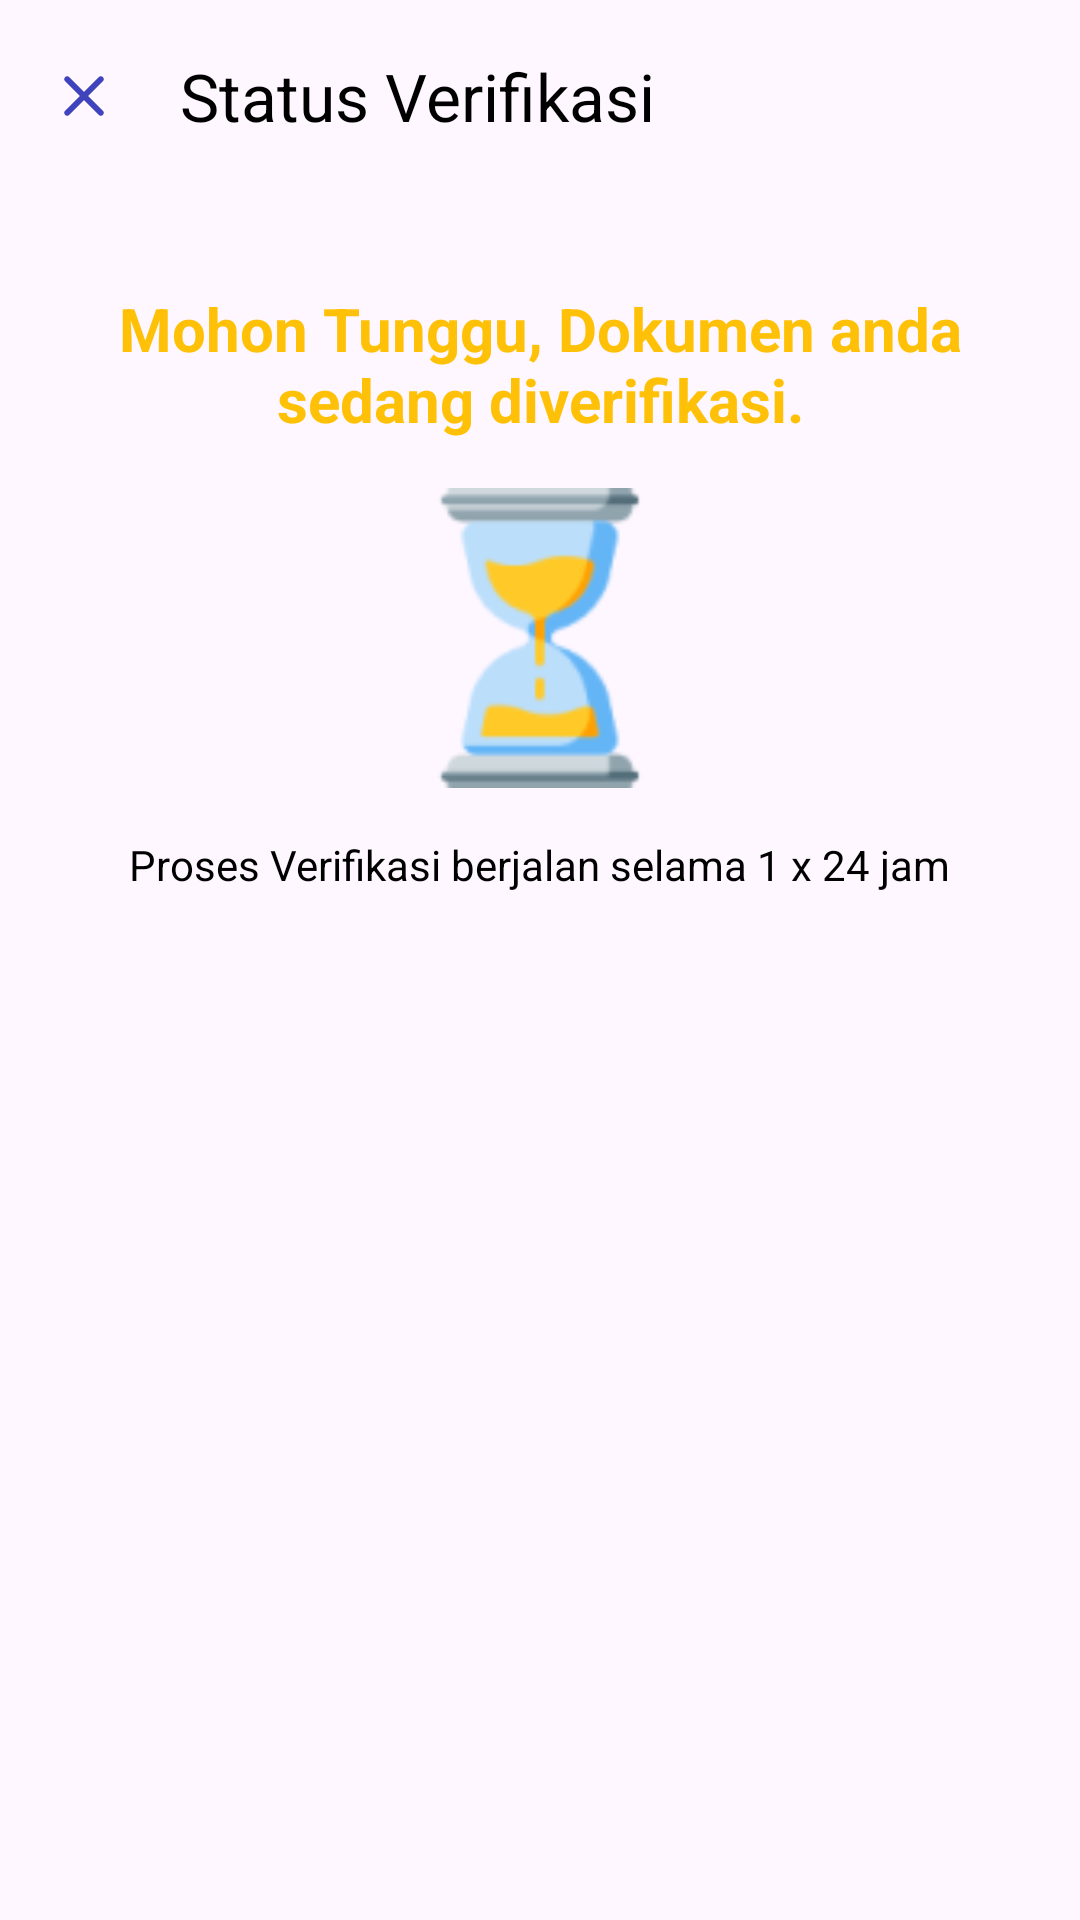

Icon bounding boxes for this 1080px×1920px phone screenshot, format (x1, y1, x2, y2):
waiting hourglass: (440, 488, 640, 788)
